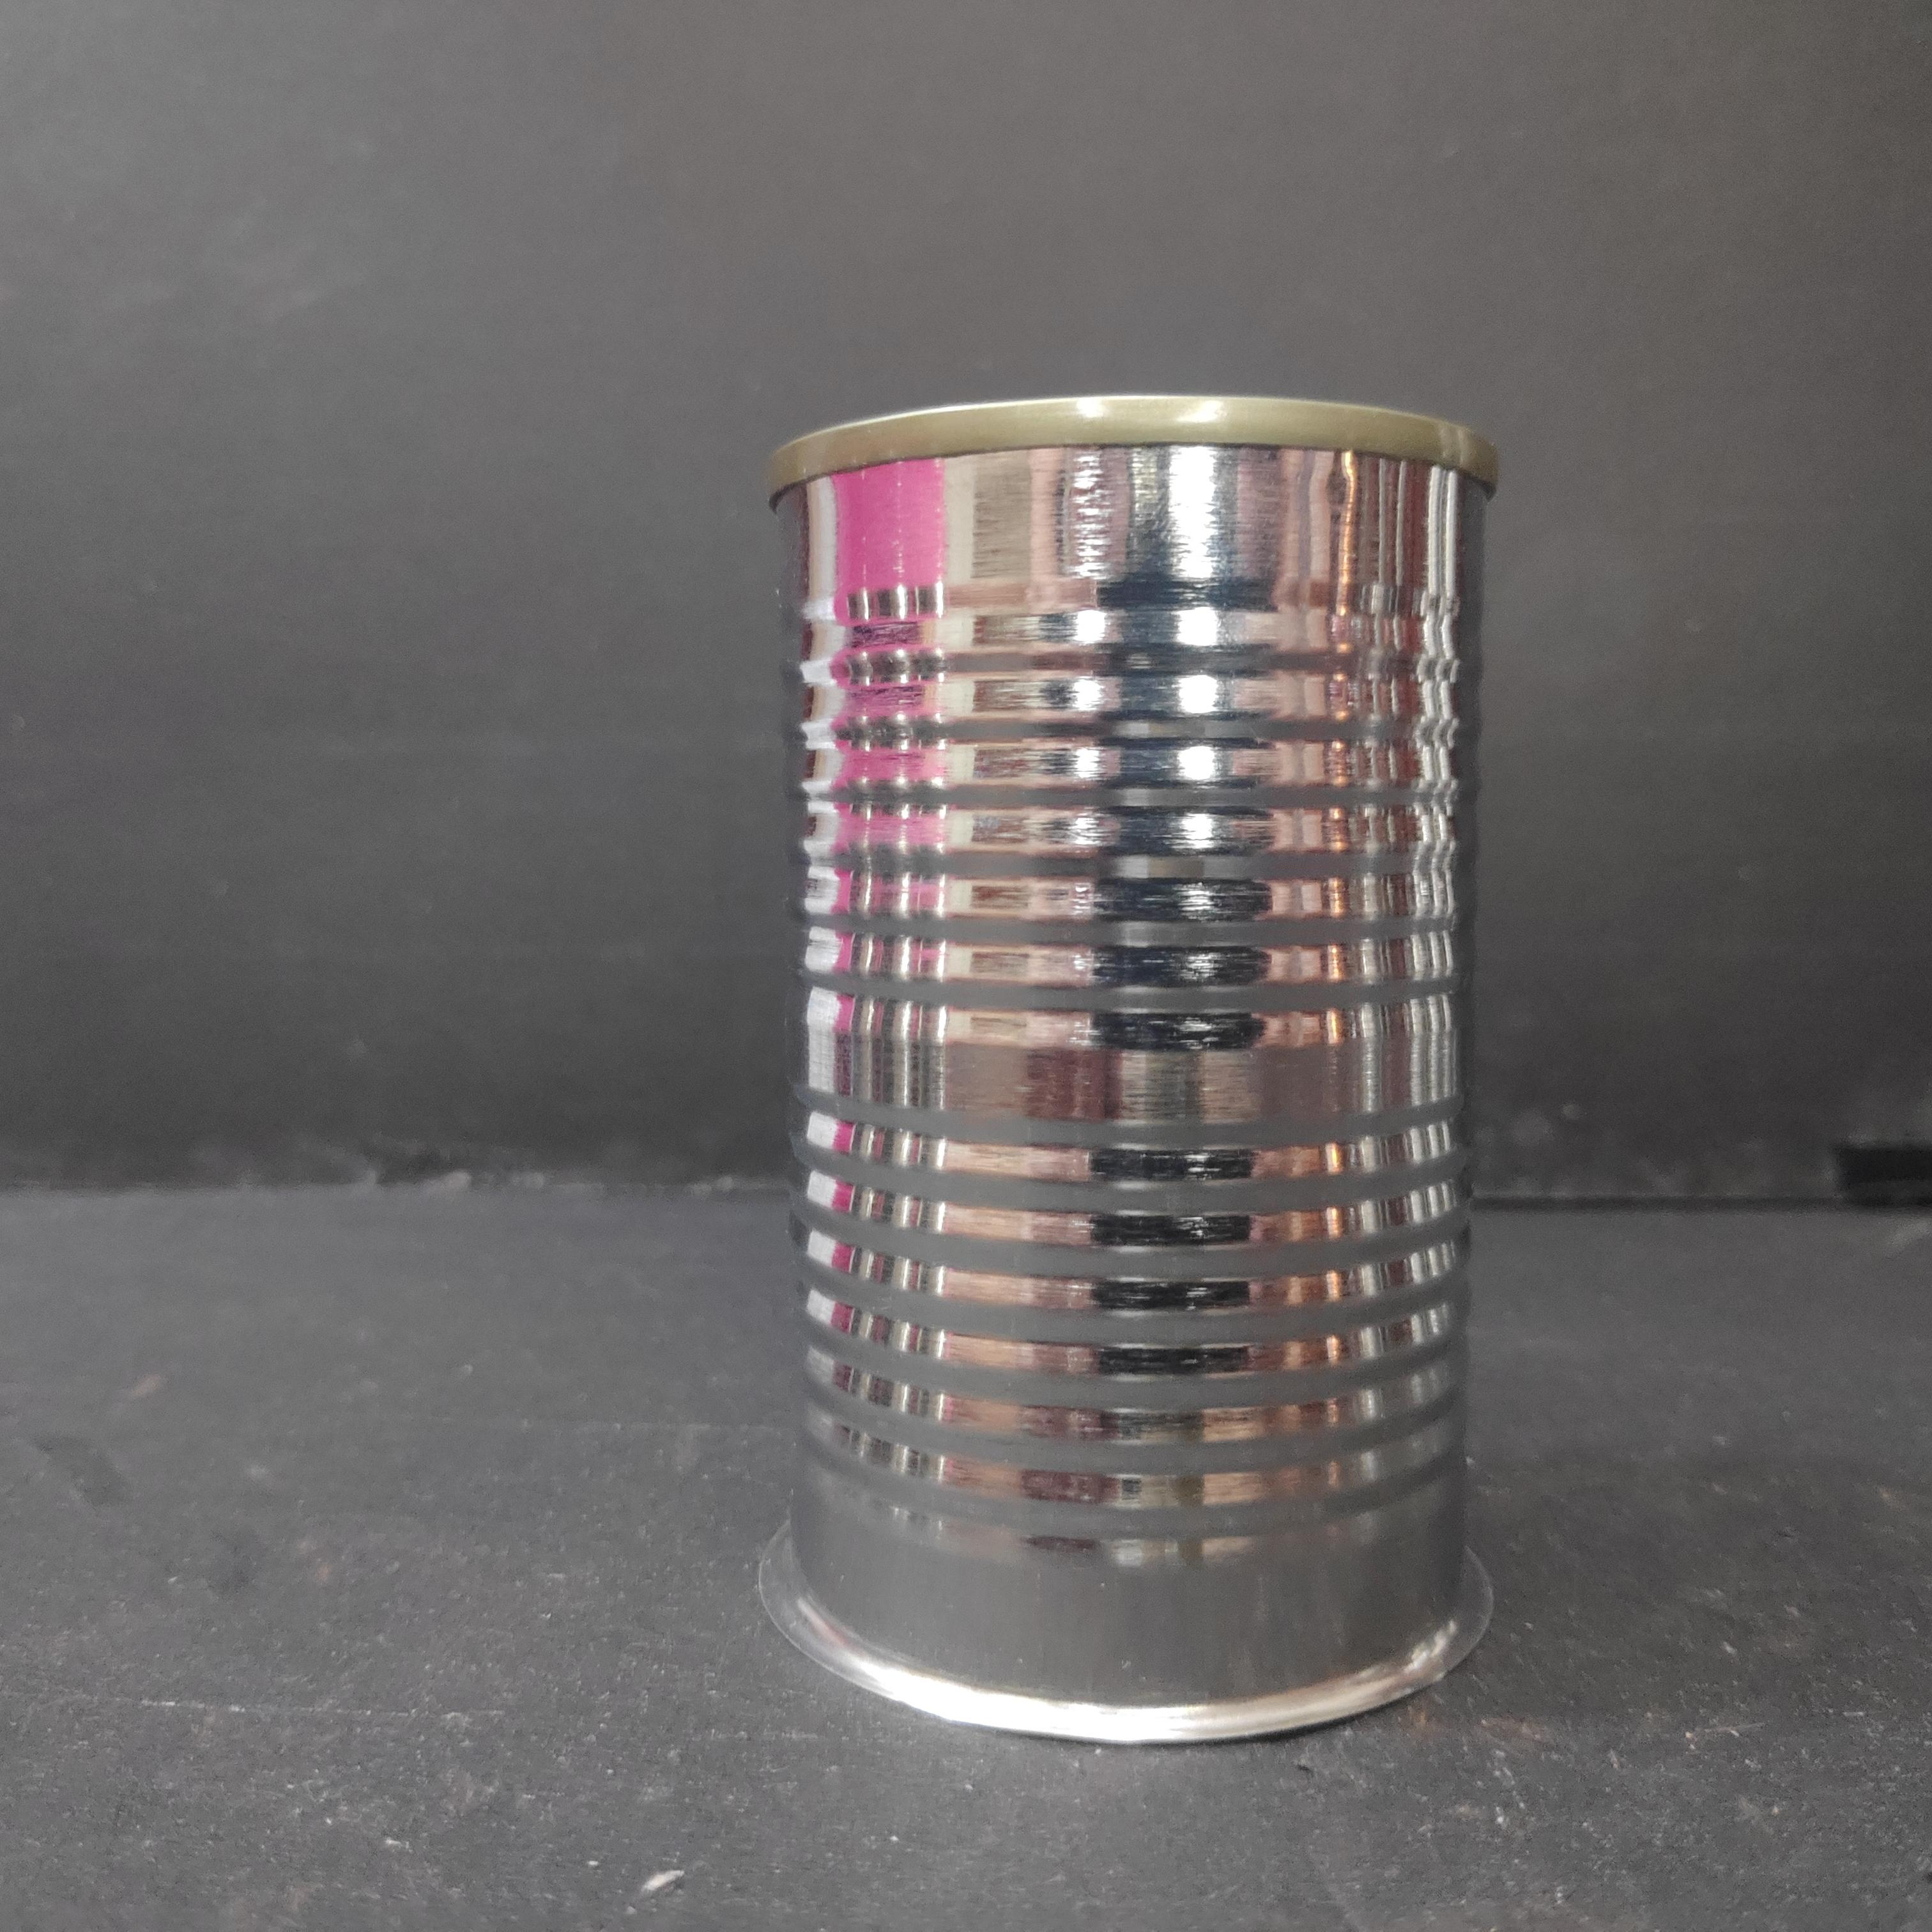No defect: (759, 384, 1506, 1757)
